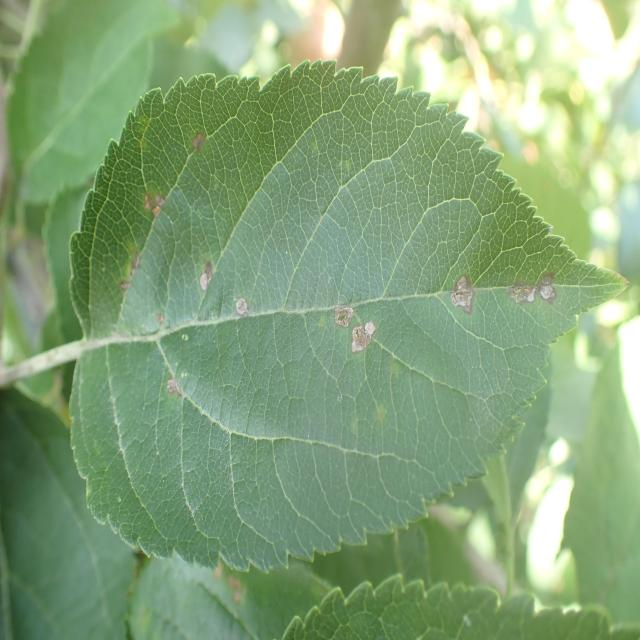frog-eye-leaf-spot: (69, 58, 631, 573)
